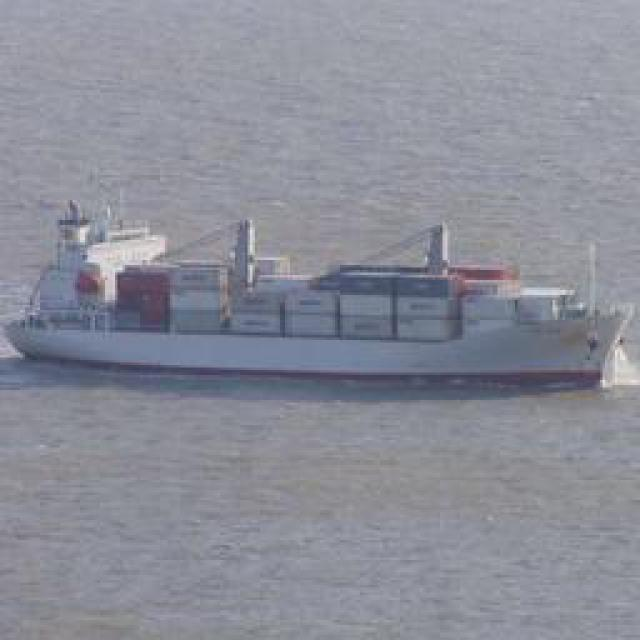Ship: (11, 205, 636, 398)
